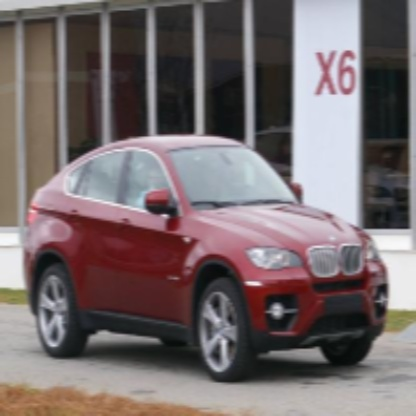Vehicle: (22, 138, 389, 384)
